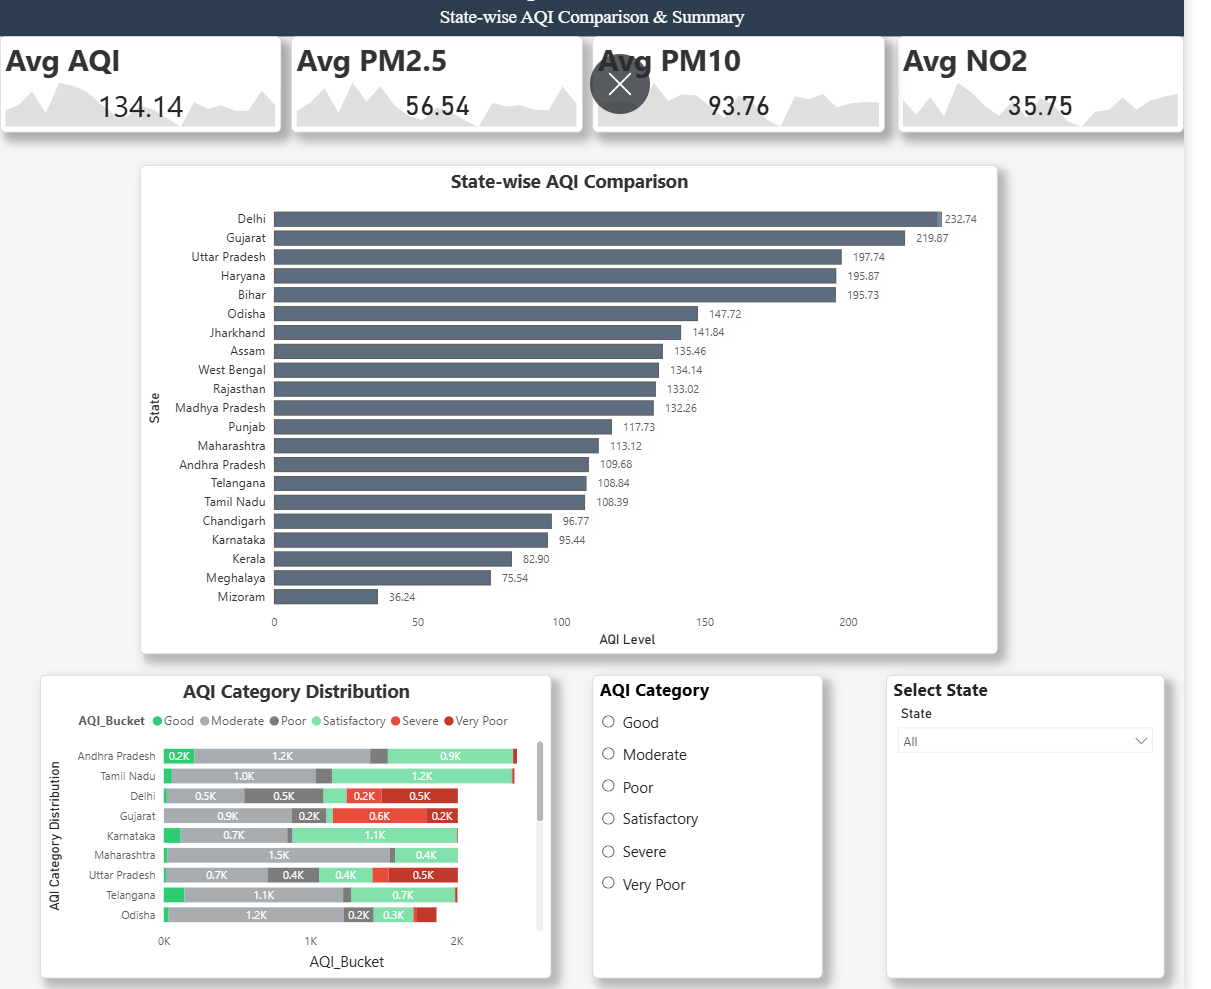

Layout of this report page (visuals, bound fields, positions):
{"tool":"powerbi","page":{"name":"Page 1","canvas":[1280,1100],"ordinal":0},"visuals":[{"type":"shape","title":"INDIA AIR QUALITY DASHBOARD","box":[0,0,1279.7,66.2],"z":0},{"type":"kpi","title":"Avg AQI","fields":{"Indicator":["Avg(Dashboard_ready.AQI)"],"TrendLine":["Dashboard_ready.State"]},"box":[0,66.2,304.1,104],"z":1000},{"type":"kpi","title":"Avg PM2.5","fields":{"TrendLine":["Dashboard_ready.State"],"Indicator":["Avg(Dashboard_ready.PM2.5)"]},"box":[314.9,66.2,314.9,104],"z":2000},{"type":"kpi","title":"Avg NO2","fields":{"TrendLine":["Dashboard_ready.State"],"Indicator":["Avg(Dashboard_ready.NO2)"]},"box":[970.3,66.2,309.5,104],"z":3000},{"type":"kpi","title":"Avg PM10","fields":{"TrendLine":["Dashboard_ready.State"],"Indicator":["Avg(Dashboard_ready.PM10)"]},"box":[640.5,66.2,316.2,104],"z":4000},{"type":"clusteredBarChart","title":"State-wise AQI Comparison","fields":{"Y":["Avg(Dashboard_ready.AQI)"],"Category":["Dashboard_ready.State"]},"box":[151.4,205.8,926.9,528.9],"z":5000},{"type":"barChart","title":"AQI Category Distribution","fields":{"Category":["Dashboard_ready.State"],"Series":["Dashboard_ready.AQI_Bucket"],"Y":["CountNonNull(Dashboard_ready.AQI_Bucket)"]},"box":[42.7,756.1,552.4,328.1],"z":6000},{"type":"listSlicer","title":"AQI Category","fields":{"Values":["Dashboard_ready.AQI_Bucket"]},"box":[640.2,756.1,248.8,328.1],"z":7000},{"type":"slicer","title":"Select State","fields":{"Values":["Dashboard_ready.State"]},"box":[957.5,756.8,301,328.2],"z":8000}]}

Visuals, with their boxes on the page's 1280x1100 design canvas (x1, y1, x2, y2). These are canvas units, not pixel positions in the 1211x989 screenshot, which may show the page scaled, cropped or inside an application window:
"INDIA AIR QUALITY DASHBOARD" shape: (x1=0, y1=0, x2=1280, y2=66)
"Avg AQI" kpi: (x1=0, y1=66, x2=304, y2=170)
"Avg PM2.5" kpi: (x1=315, y1=66, x2=630, y2=170)
"Avg NO2" kpi: (x1=970, y1=66, x2=1280, y2=170)
"Avg PM10" kpi: (x1=640, y1=66, x2=957, y2=170)
"State-wise AQI Comparison" clusteredBarChart: (x1=151, y1=206, x2=1078, y2=735)
"AQI Category Distribution" barChart: (x1=43, y1=756, x2=595, y2=1084)
"AQI Category" listSlicer: (x1=640, y1=756, x2=889, y2=1084)
"Select State" slicer: (x1=958, y1=757, x2=1258, y2=1085)
